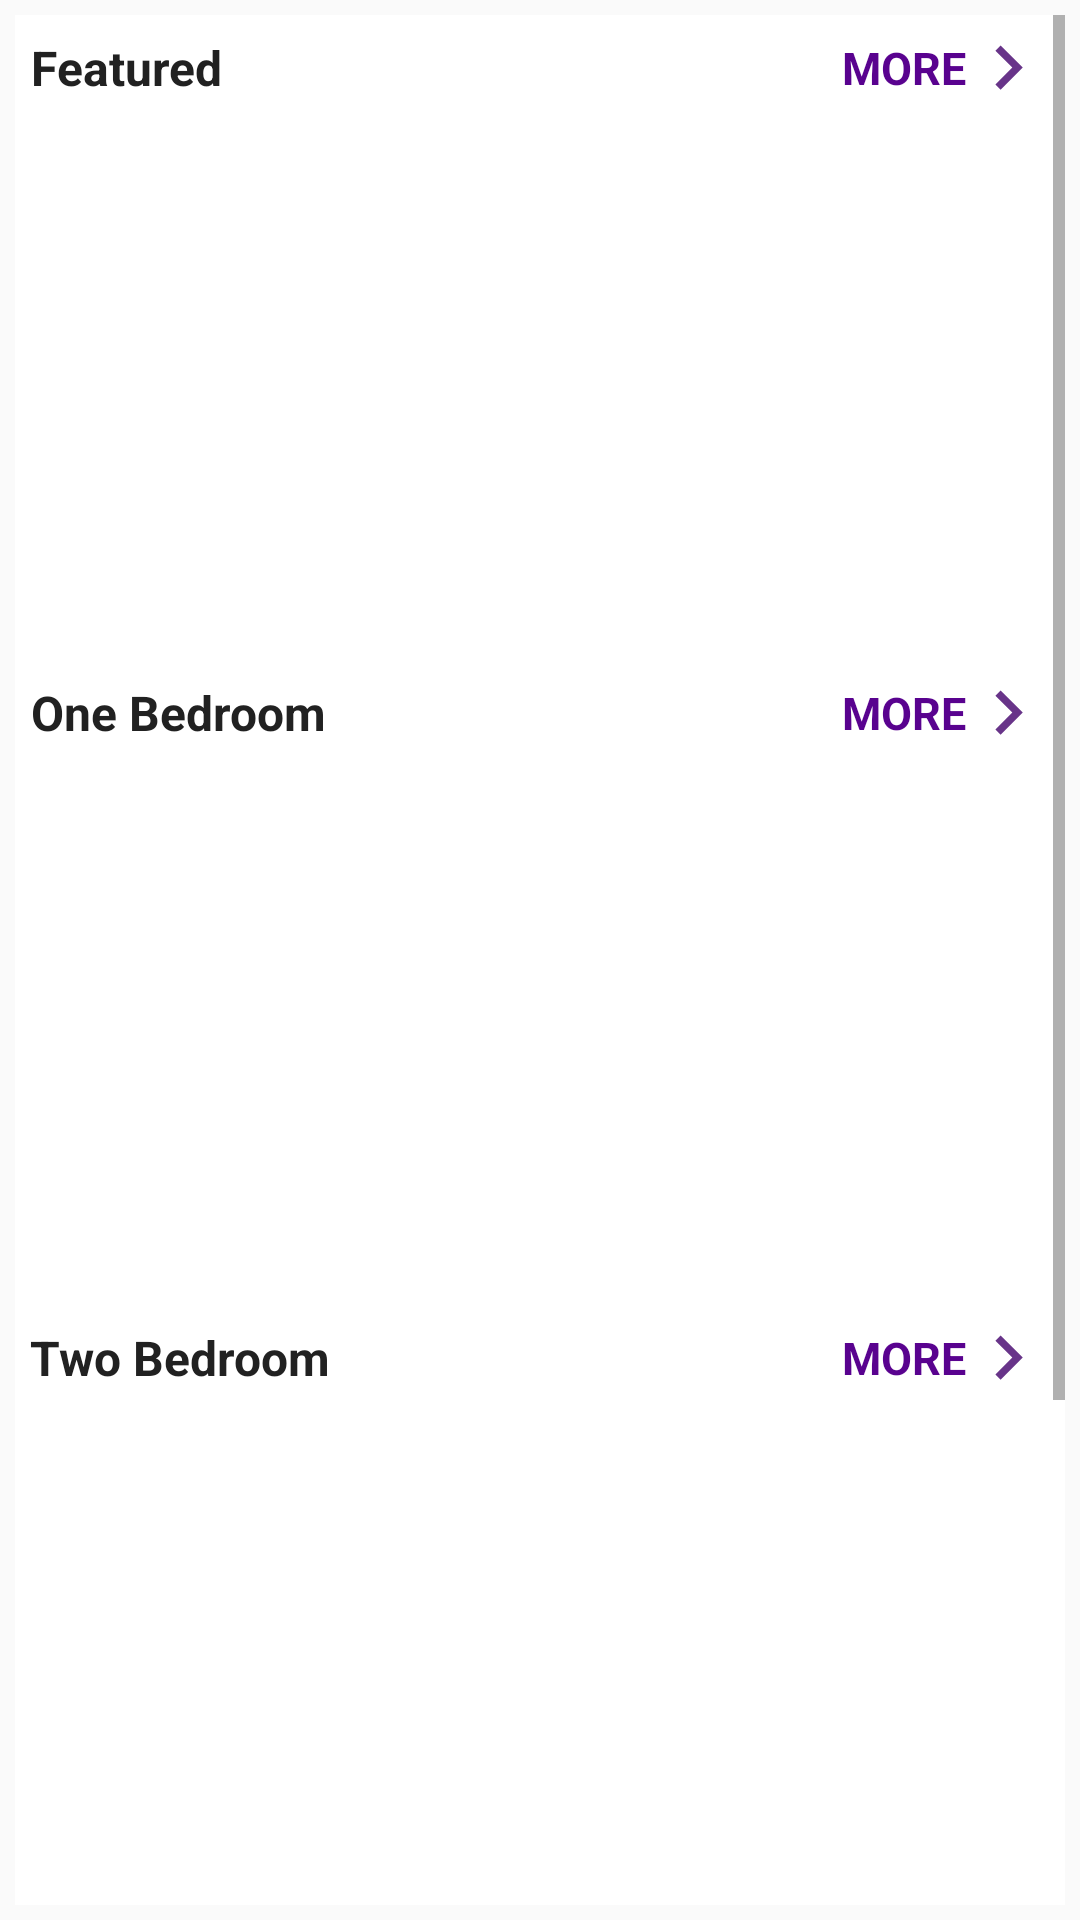

Locate icon controls on the screen. Image size 1080 × 1920, boxes as [left=x1, top=y1, right=x2, bottom=y2].
arrow next: [left=995, top=45, right=1023, bottom=90], [left=995, top=690, right=1023, bottom=735], [left=995, top=1335, right=1023, bottom=1380]
